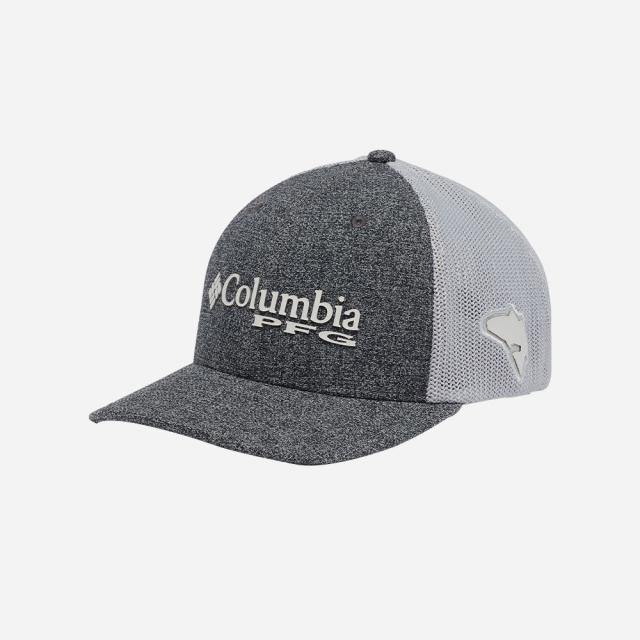Nonhelmet: (87, 147, 554, 467)
